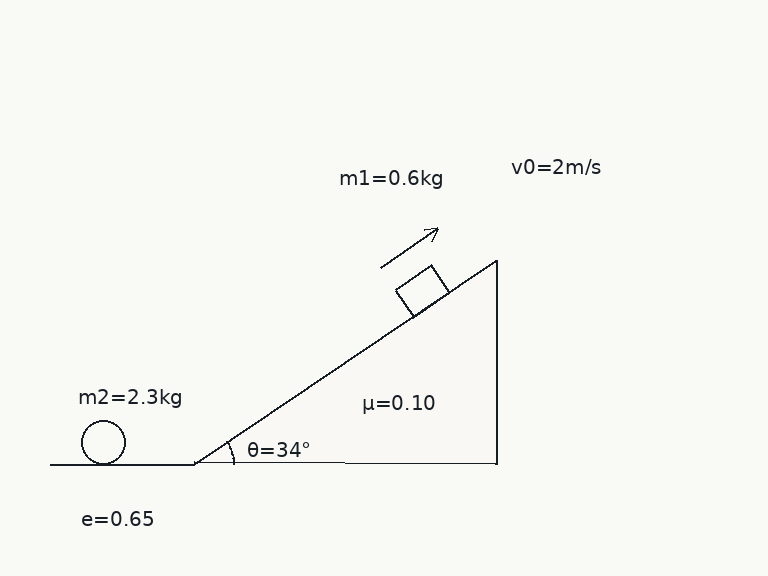ball: (79, 418, 127, 466)
block: (392, 263, 451, 319)
ramp: (192, 258, 498, 466)
